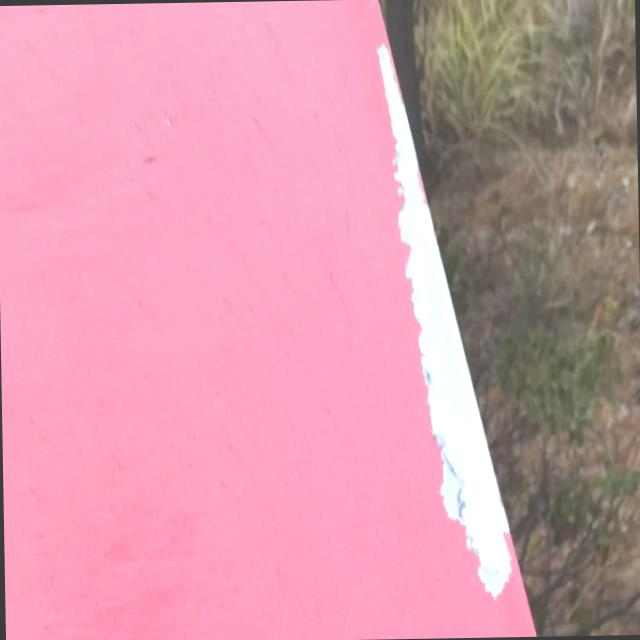surface_peeling: (416, 325, 518, 596), (378, 54, 454, 323)
